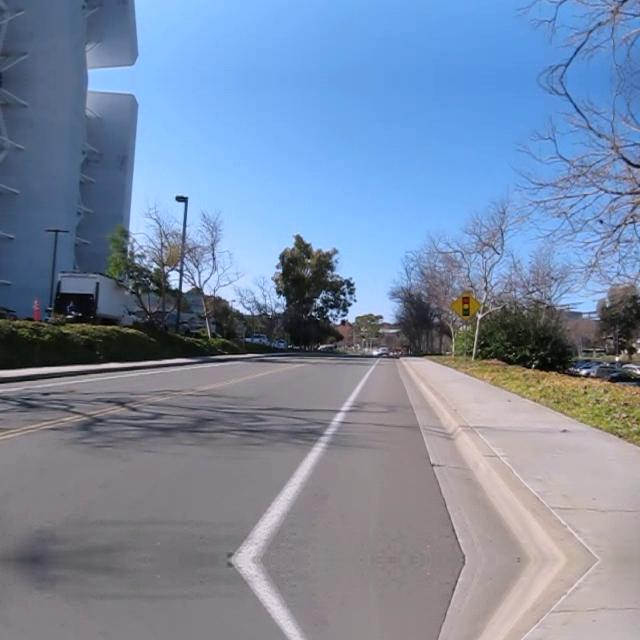signalAhead: (448, 289, 480, 321)
